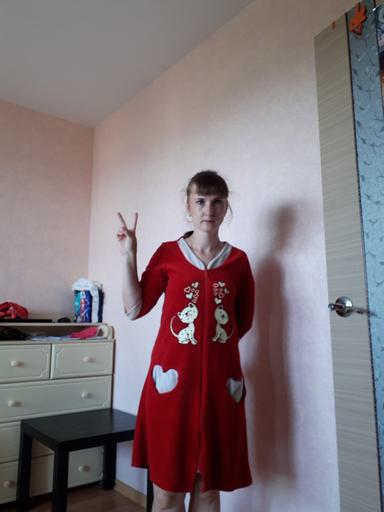peace: (114, 208, 140, 256)
